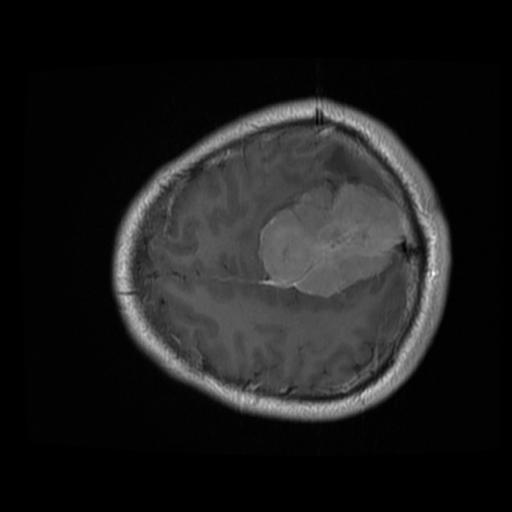meningioma: (256, 184, 402, 297)
